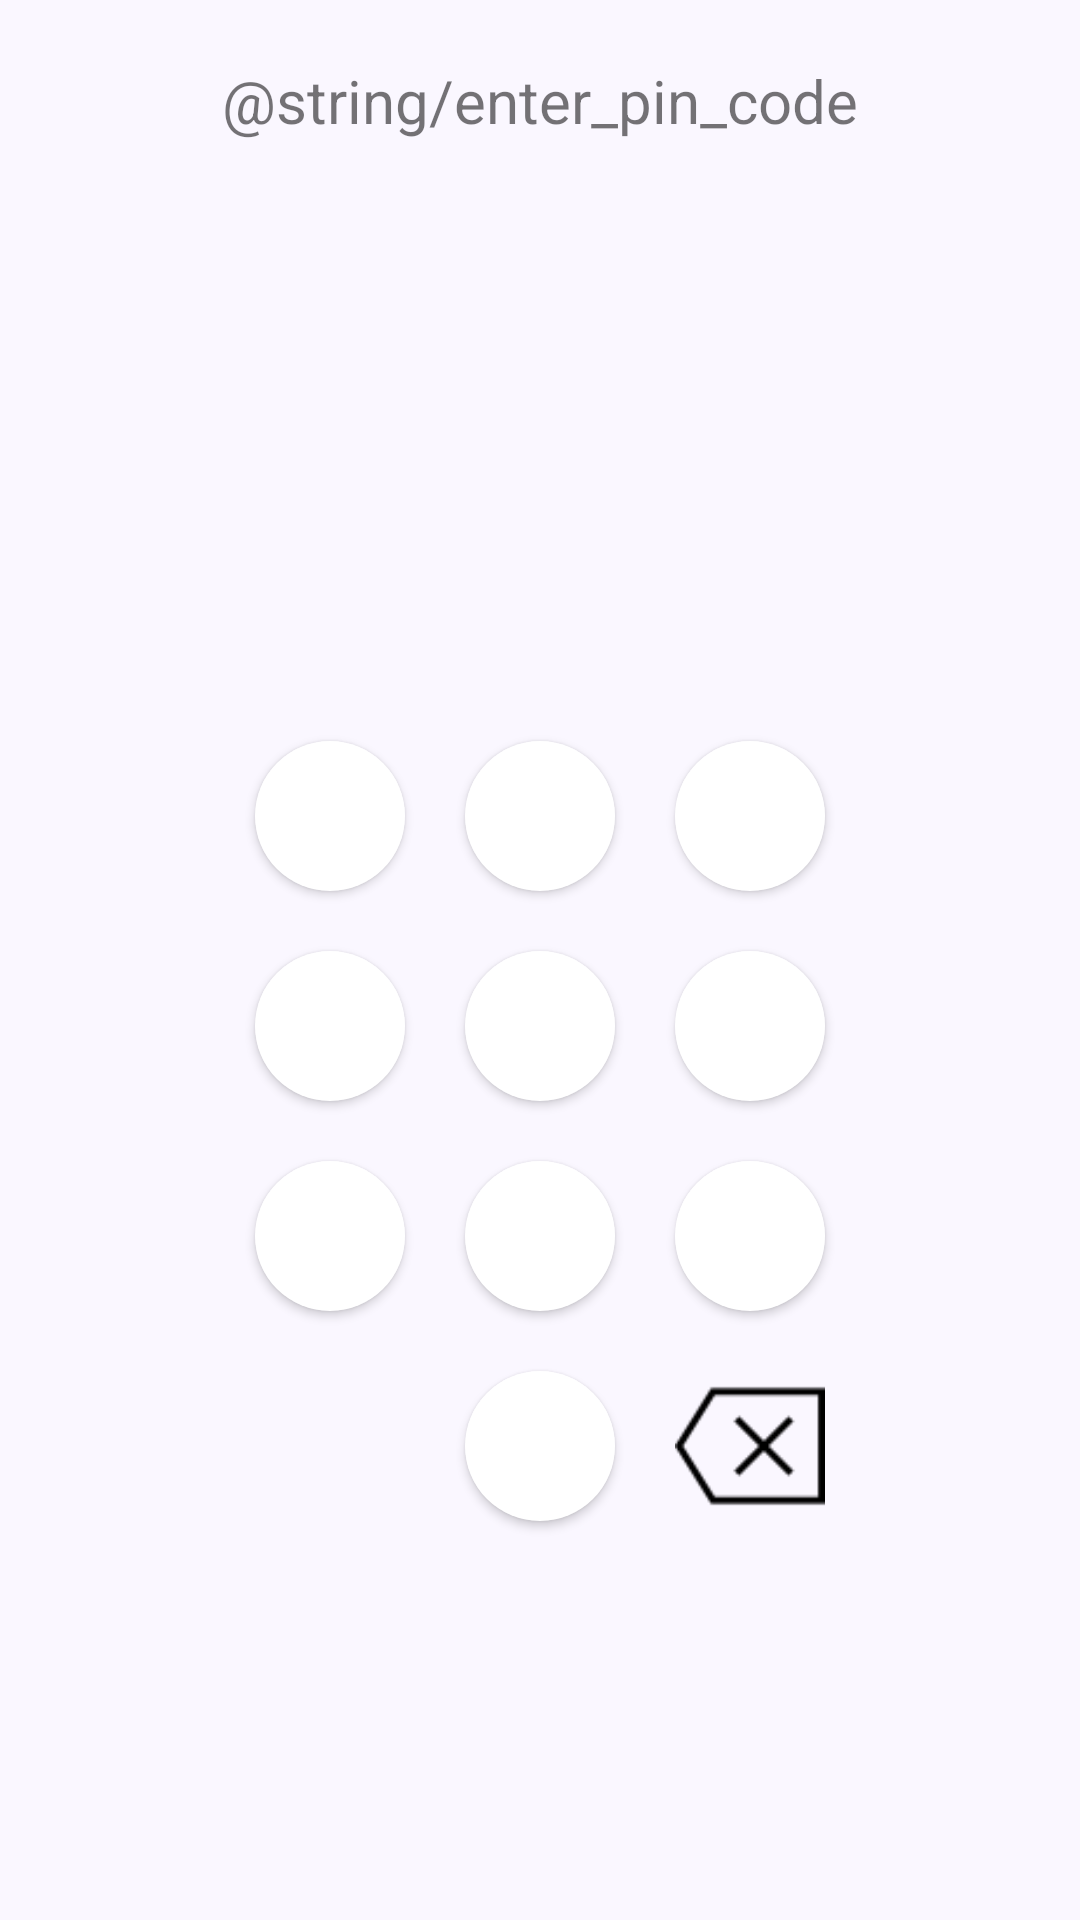

Screen size 1080x1920. Icon name, then its box in pixels as (x1, y1, x2, y2):
Delete last pin code symbol: (675, 1387, 825, 1505)
